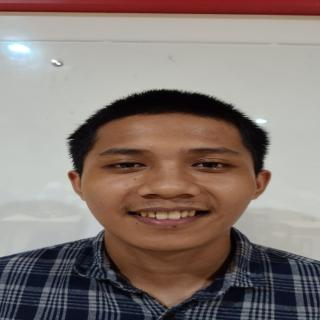Senang: (74, 111, 269, 255)
